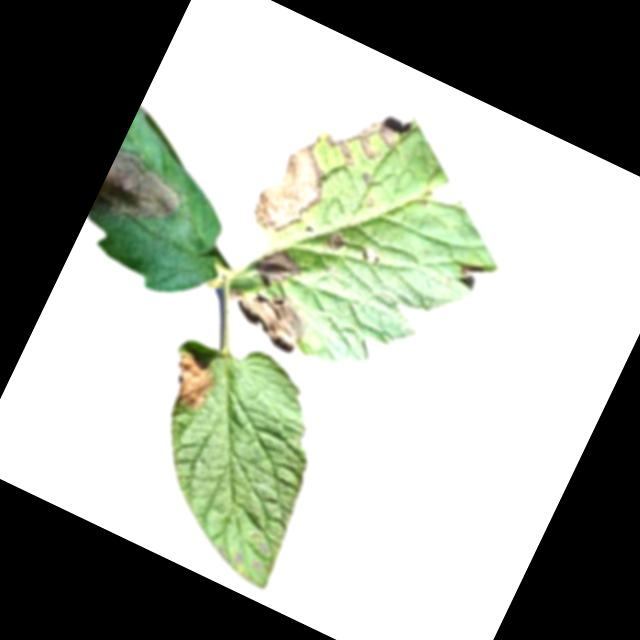Late_blight: (246, 131, 342, 246), (91, 149, 192, 245), (217, 277, 313, 358), (316, 101, 399, 178), (161, 350, 222, 415), (247, 238, 307, 297), (321, 226, 350, 256), (458, 257, 484, 283)
